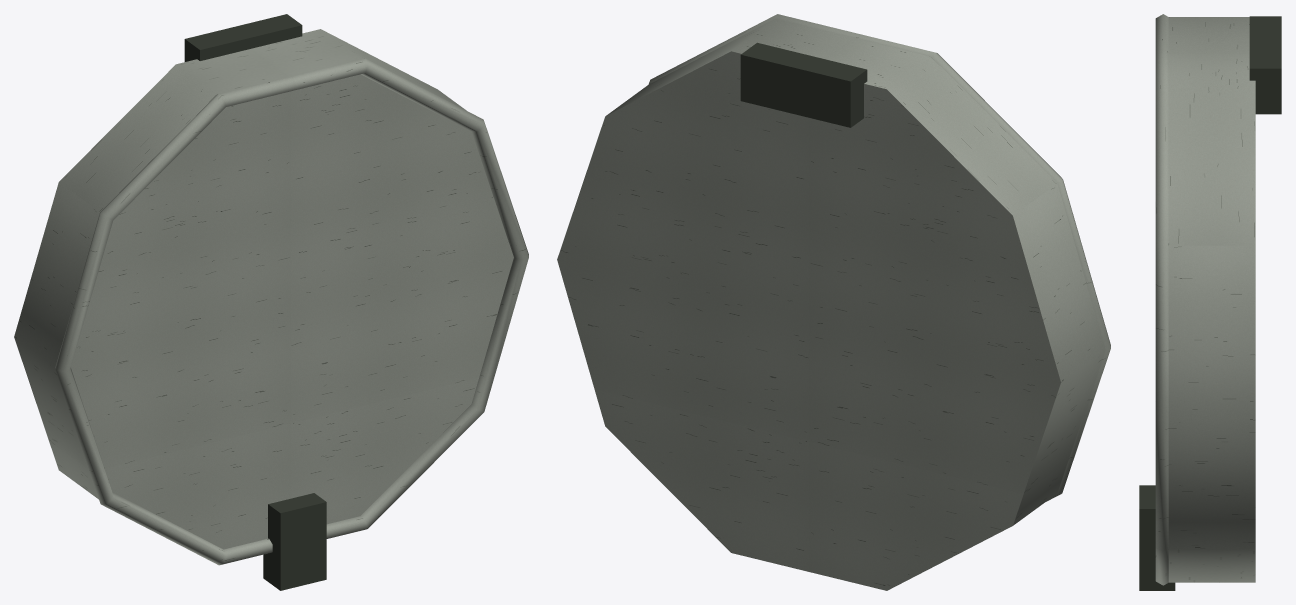
The model's file is SM_FieldKit_LampHood_LOD2.fbx.
3 views of the same model, side by side, from view 1: azimuth 30°, elevation 25°; view 2: azimuth 150°, elevation 25°; view 3: azimuth 270°, elevation 25° (orthographic). The views are drawn at different scales.
Parts seen in each view (by area): view 1: SM_FieldKit_LampHood_LOD2; view 2: SM_FieldKit_LampHood_LOD2; view 3: SM_FieldKit_LampHood_LOD2.
Part boxes in pixels (box(x1,y1,x2,y2)): SM_FieldKit_LampHood_LOD2: box(14, 14, 528, 590); SM_FieldKit_LampHood_LOD2: box(557, 14, 1110, 590); SM_FieldKit_LampHood_LOD2: box(1139, 14, 1281, 590).
Bounding box in the file's own units: 0.287 × 0.071 × 0.295.
